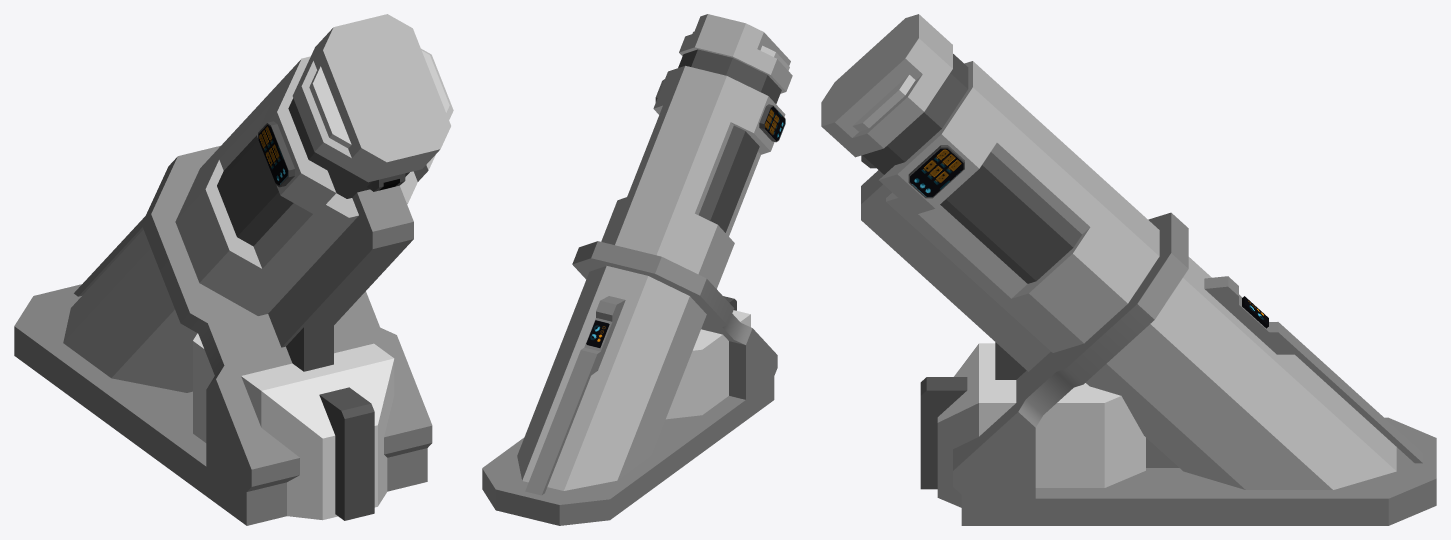
File: SM_Machine_5.fbx
3 renders of one model, left to right at view 1: azimuth 30°, elevation 25°; view 2: azimuth 150°, elevation 25°; view 3: azimuth 270°, elevation 25°, orthographic. The views are drawn at different scales.
Visible parts, largest first — view 1: SM_Machine_5; view 2: SM_Machine_5; view 3: SM_Machine_5.
Boxes of the visible parts, x1=… form: SM_Machine_5: x1=14, y1=14, x2=453, y2=525; SM_Machine_5: x1=482, y1=14, x2=792, y2=525; SM_Machine_5: x1=821, y1=14, x2=1436, y2=525.
Size of the model in its own units: 77.15 by 204 by 248.
